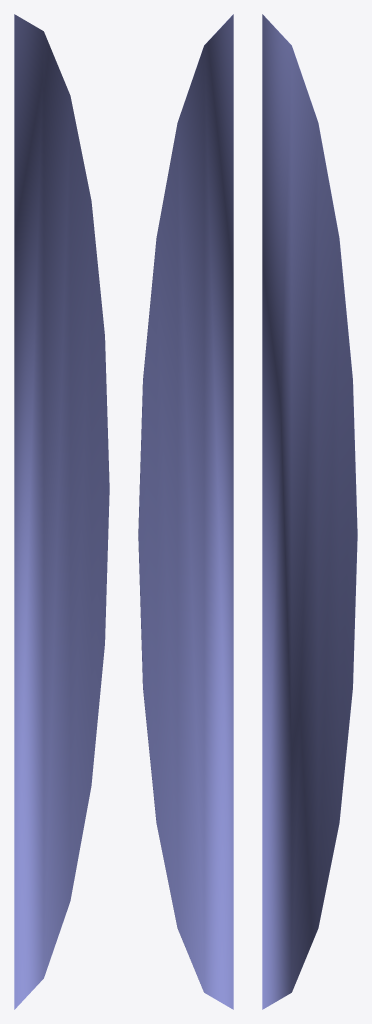
The model's file is diamond beam.fbx.
The picture shows the model from 3 angles, left to right: view 1: azimuth 30°, elevation 25°; view 2: azimuth 210°, elevation 25°; view 3: azimuth 330°, elevation 25°; orthographic projection.
Visible parts, largest first — view 1: diamond_beam; view 2: diamond_beam; view 3: diamond_beam.
Boxes of the visible parts, x1,y1,x2,y2 form: diamond_beam: (14, 14, 109, 1009); diamond_beam: (138, 14, 233, 1009); diamond_beam: (262, 14, 357, 1009).
Size of the model in its own units: 0.2 by 2 by 0.000836.
